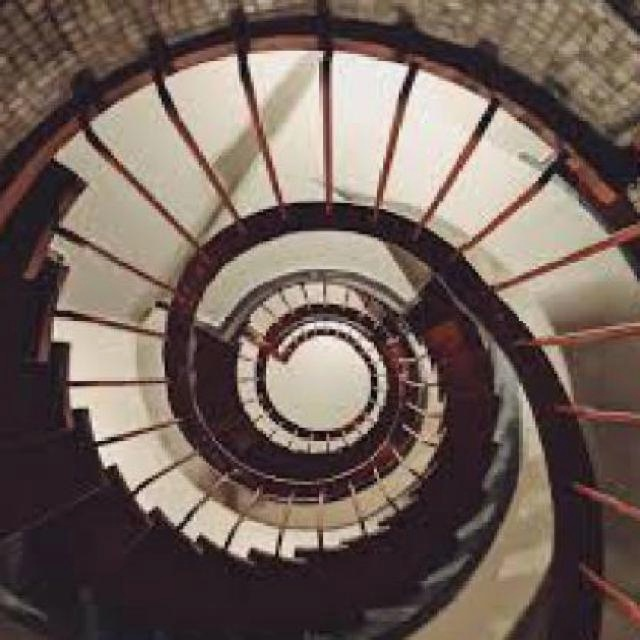stair: (1, 123, 634, 637)
